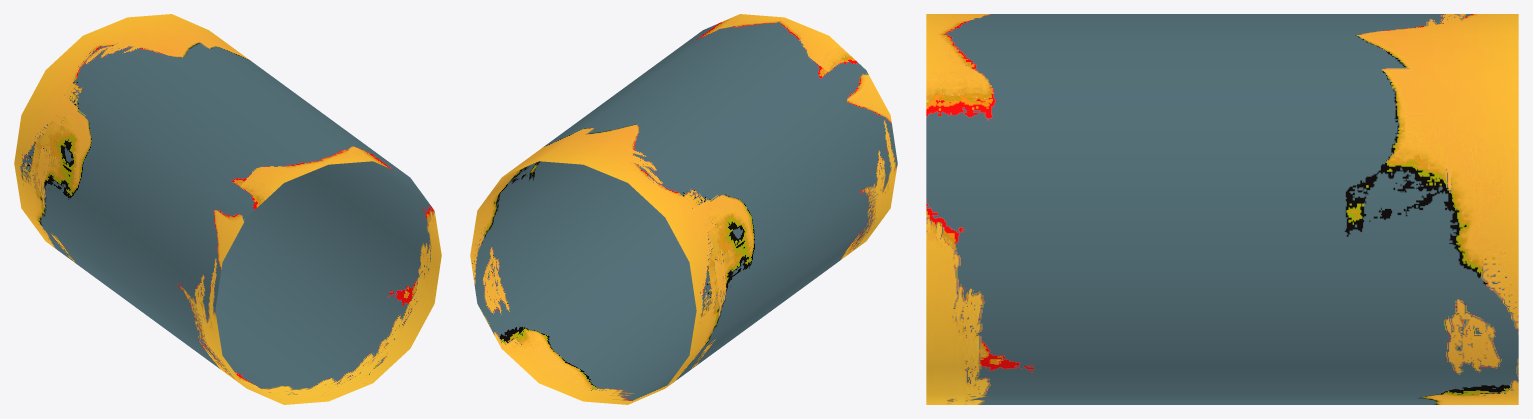
File: pillar_orange.glb
3 views of the same model, side by side, from view 1: azimuth 30°, elevation 25°; view 2: azimuth 150°, elevation 25°; view 3: azimuth 270°, elevation 25° (orthographic). The views are drawn at different scales.
Parts seen in each view (by area): view 1: Portal_Pillar-Orange; view 2: Portal_Pillar-Orange; view 3: Portal_Pillar-Orange.
Part boxes in pixels (x1,y1,x2,y2): Portal_Pillar-Orange: (14,14,441,404); Portal_Pillar-Orange: (470,14,897,404); Portal_Pillar-Orange: (926,14,1518,404).
Size of the model in its own units: 4.2 by 4.2 by 6.46.
1 material, 1 textured.
